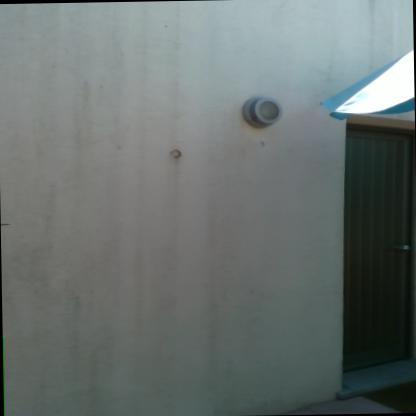closed: (327, 107, 415, 396)
